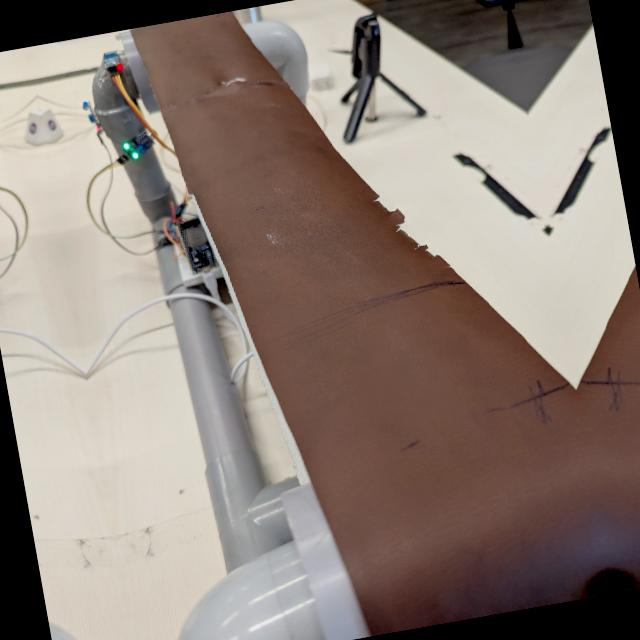edge_damage: (360, 168, 457, 283)
joint_damage: (199, 66, 262, 93)
